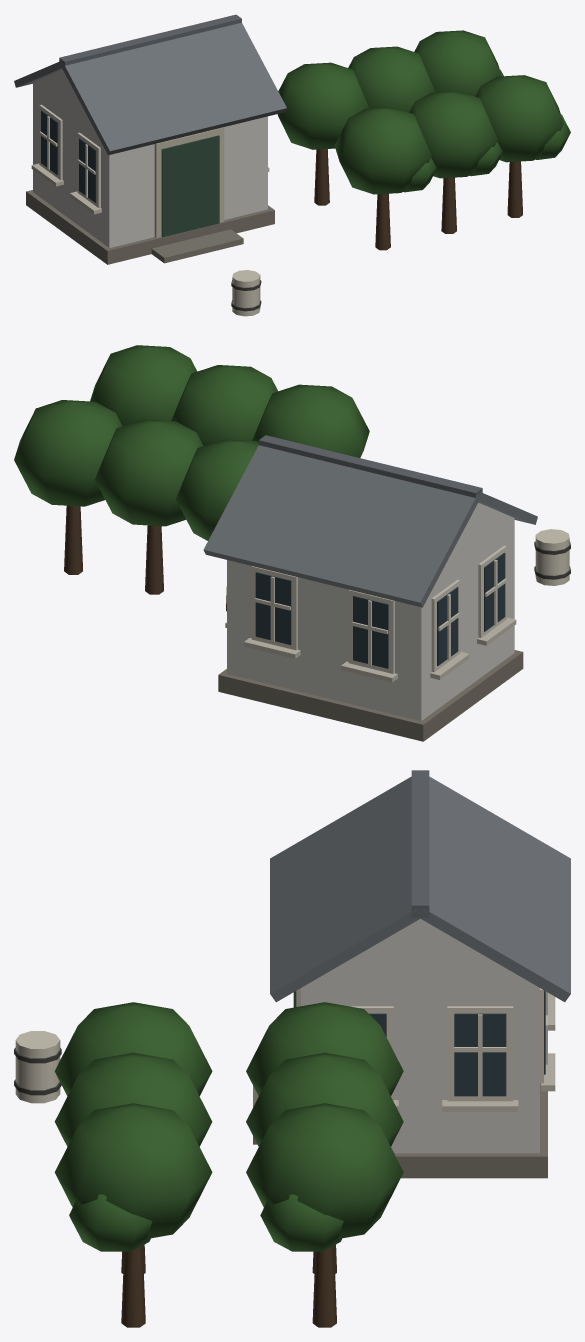
The model's file is procedural_rubber_farm@6.glb.
3 views of the same model, one above another, from view 1: azimuth 30°, elevation 25°; view 2: azimuth 150°, elevation 25°; view 3: azimuth 270°, elevation 25° (orthographic). The views are drawn at different scales.
Visible parts, largest first — view 1: part_0; view 2: part_0; view 3: part_0.
Part boxes in pixels (x1=…): part_0: x1=14, y1=14, x2=570, y2=316; part_0: x1=14, y1=345, x2=570, y2=741; part_0: x1=14, y1=770, x2=570, y2=1327.
Bounding box in the file's own units: 9.2 × 3.83 × 6.99.
